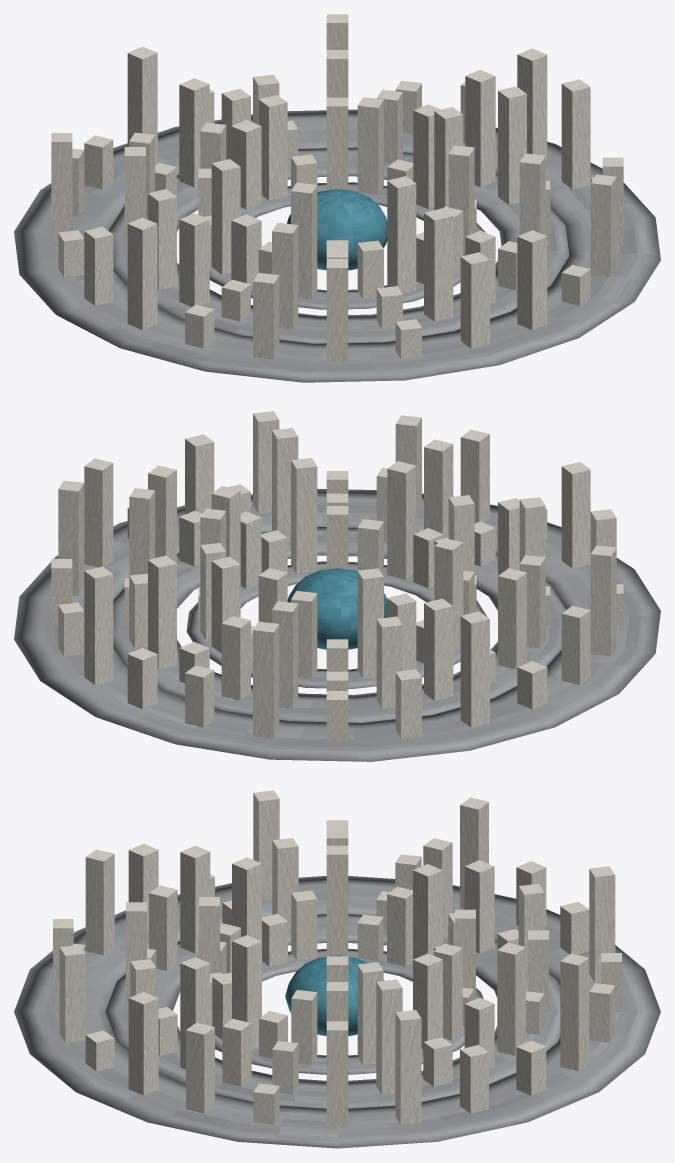
The model's file is vael-ring-city.glb.
3 views of the same model, one above another, from view 1: azimuth 30°, elevation 25°; view 2: azimuth 150°, elevation 25°; view 3: azimuth 270°, elevation 25° (orthographic).
Parts seen in each view (by area): view 1: city tower (×55), transit ring (×3), central dome; view 2: city tower (×58), transit ring (×3), central dome; view 3: city tower (×58), transit ring (×3), central dome.
Boxes of the visible parts, x1,y1,x2,y2 form: city tower (×55): [51, 14, 623, 362]; transit ring (×3): [14, 109, 660, 382]; central dome: [287, 189, 387, 270]; city tower (×58): [51, 411, 616, 741]; transit ring (×3): [14, 488, 660, 761]; central dome: [287, 568, 387, 649]; city tower (×58): [53, 790, 621, 1127]; transit ring (×3): [14, 876, 660, 1148]; central dome: [285, 955, 384, 1035].
Size of the model in its own units: 5.31 by 1.18 by 5.31.
4 materials, 4 textured.
